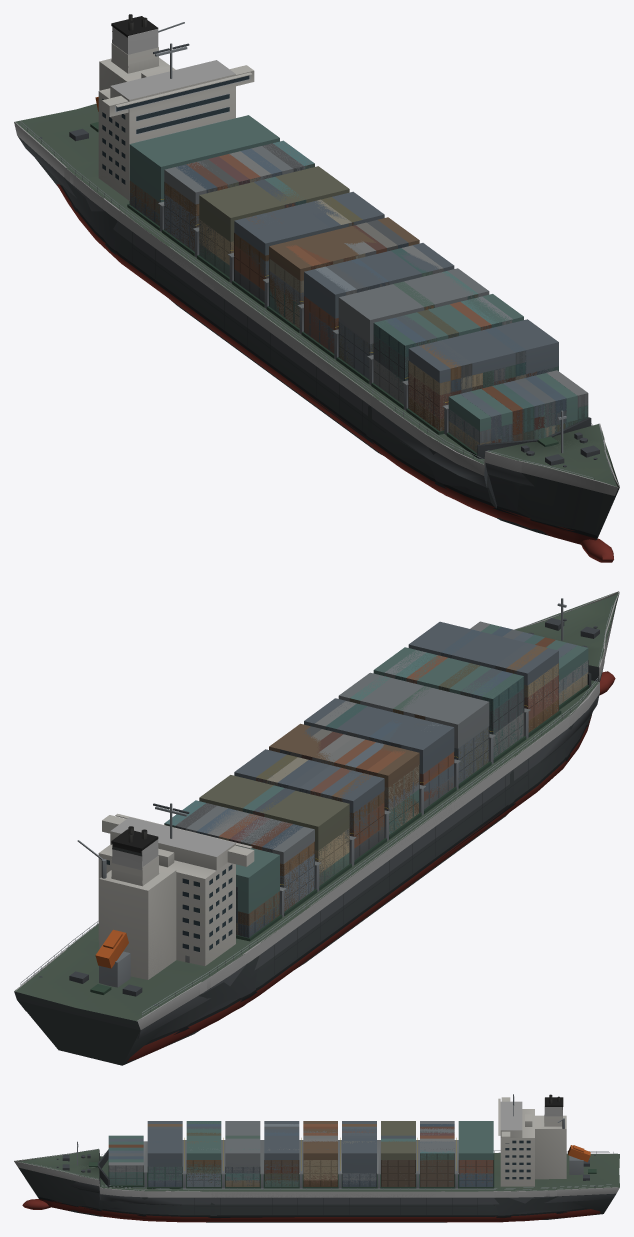
Rendered from ship_modern_container.glb.
3 renders of one model, top to bottom at view 1: azimuth 30°, elevation 25°; view 2: azimuth 150°, elevation 25°; view 3: azimuth 270°, elevation 25°, orthographic. The views are drawn at different scales.
Visible parts, largest first — view 1: ship_modern_container_LOD0_mesh, ship_modern_container_LOD2_mesh, ship_modern_container_LOD1_mesh; view 2: ship_modern_container_LOD0_mesh, ship_modern_container_LOD2_mesh, ship_modern_container_LOD1_mesh; view 3: ship_modern_container_LOD0_mesh, ship_modern_container_LOD2_mesh, ship_modern_container_LOD1_mesh.
Boxes of the visible parts, left/top/right/bottom form: ship_modern_container_LOD0_mesh: left=14, top=14, right=619, bottom=562; ship_modern_container_LOD2_mesh: left=14, top=27, right=619, bottom=535; ship_modern_container_LOD1_mesh: left=14, top=60, right=618, bottom=544; ship_modern_container_LOD0_mesh: left=14, top=591, right=619, bottom=1061; ship_modern_container_LOD2_mesh: left=14, top=594, right=619, bottom=1065; ship_modern_container_LOD1_mesh: left=15, top=593, right=618, bottom=1039; ship_modern_container_LOD0_mesh: left=14, top=1094, right=617, bottom=1222; ship_modern_container_LOD2_mesh: left=14, top=1098, right=619, bottom=1222; ship_modern_container_LOD1_mesh: left=18, top=1097, right=619, bottom=1222.
Bounding box in the file's own units: 32.6 × 43.6 × 212.
